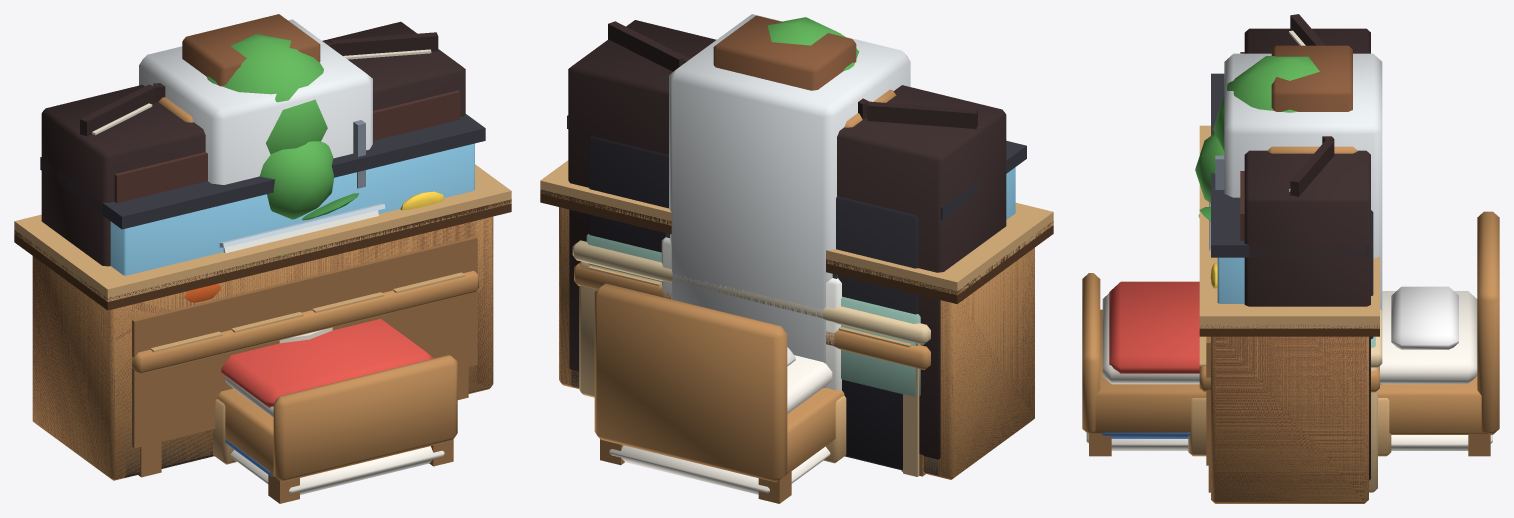
File: furniture.glb
3 views of the same model, side by side, from view 1: azimuth 30°, elevation 25°; view 2: azimuth 150°, elevation 25°; view 3: azimuth 270°, elevation 25° (orthographic). The views are drawn at different scales.
Parts seen in each view (by area): view 1: p_counter, p_desk, f_log_bed, f_jagaejang, p_tank, f_fridge, p_plant, f_log_table, f_clock, f_byeongpung, f_yo, p_bugcase (+2 smaller); view 2: f_fridge, f_log_bed, f_jagaejang, p_counter, f_piano, p_desk, f_desk__main, f_clock, f_pastel_sofa, f_byeongpung, f_log_table, f_yo (+4 smaller); view 3: f_log_bed, p_counter, p_desk, f_jagaejang, f_fridge, p_tank, f_clock, p_plant, f_yo, f_byeongpung, p_display, f_desk__main (+2 smaller).
Boxes of the visible parts, x1,y1,x2,y2 form: p_counter: [14, 164, 511, 480]; p_desk: [14, 199, 511, 477]; f_log_bed: [217, 318, 457, 503]; f_jagaejang: [41, 21, 465, 266]; p_tank: [40, 114, 485, 474]; f_fridge: [139, 19, 372, 188]; p_plant: [207, 34, 333, 219]; f_log_table: [132, 270, 478, 477]; f_clock: [182, 14, 320, 86]; f_byeongpung: [80, 32, 438, 136]; f_yo: [225, 439, 444, 494]; p_bugcase: [219, 203, 385, 253]; f_fridge: [669, 14, 910, 388]; f_log_bed: [594, 283, 844, 503]; f_jagaejang: [568, 20, 1006, 459]; p_counter: [540, 160, 1053, 479]; f_piano: [589, 136, 918, 470]; p_desk: [540, 189, 1053, 477]; f_desk__main: [572, 240, 930, 476]; f_clock: [713, 15, 856, 90]; f_pastel_sofa: [586, 234, 920, 396]; f_byeongpung: [608, 21, 977, 129]; f_log_table: [574, 263, 930, 476]; f_yo: [609, 445, 830, 494]; f_log_bed: [1082, 211, 1499, 456]; p_counter: [1199, 125, 1379, 503]; p_desk: [1199, 325, 1379, 501]; f_jagaejang: [1240, 28, 1370, 480]; f_fridge: [1215, 53, 1382, 384]; p_tank: [1210, 73, 1368, 303]; f_clock: [1271, 45, 1352, 111]; p_plant: [1195, 56, 1319, 203]; f_yo: [1086, 432, 1492, 450]; f_byeongpung: [1289, 14, 1334, 197]; p_display: [1188, 398, 1391, 456]; f_desk__main: [1369, 309, 1382, 492].
Bounding box in the file's own units: 2 × 1.76 × 1.85.
